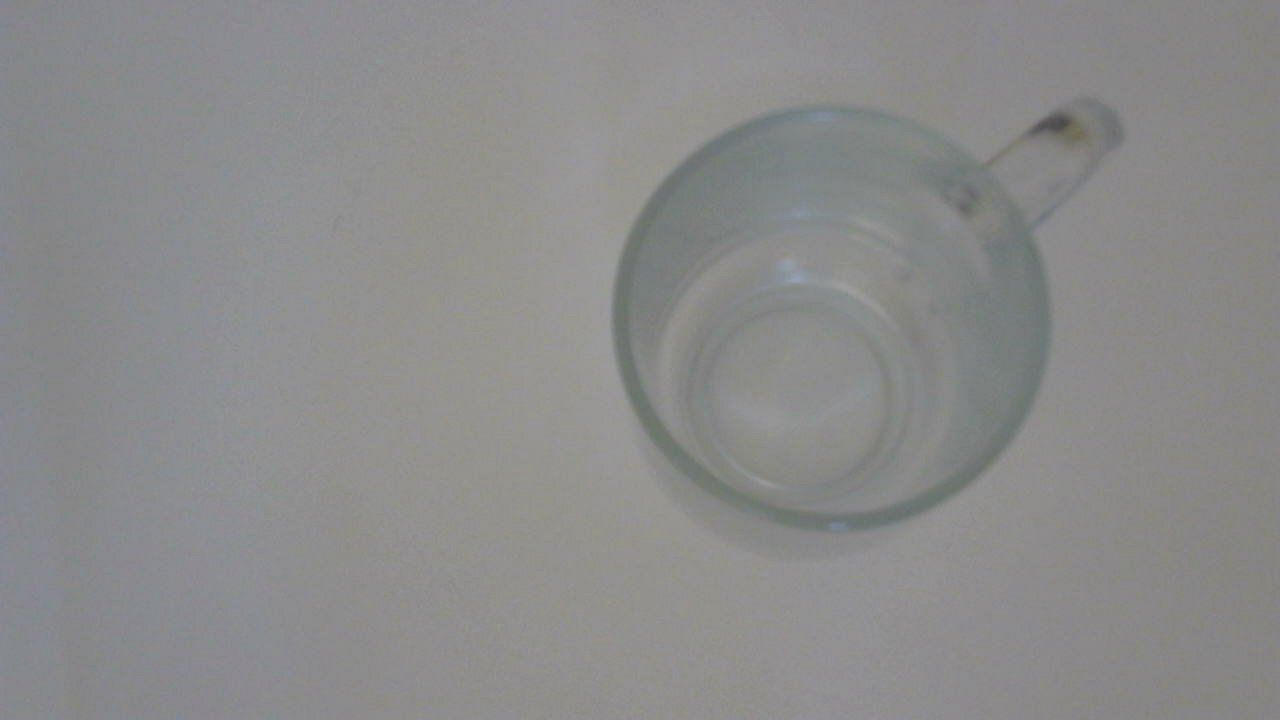Glass: (603, 47, 1170, 586)
